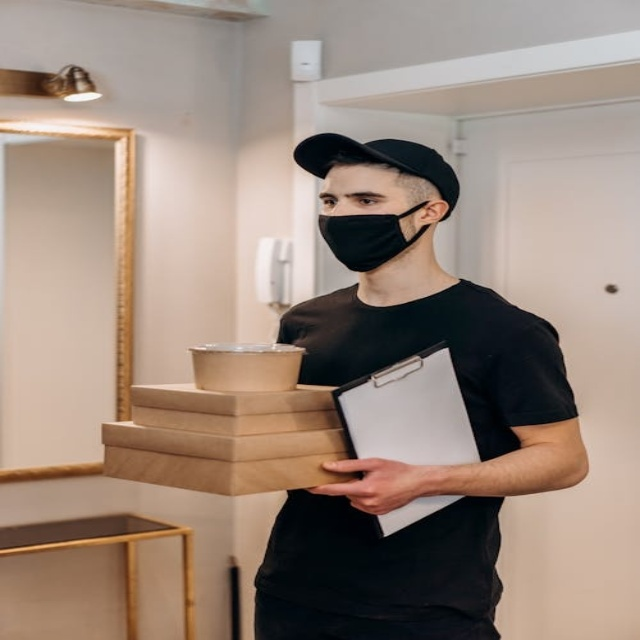Mascara: (319, 198, 438, 272)
Sin_gafas: (317, 187, 397, 210)
Sin_guantes: (312, 455, 424, 516)
